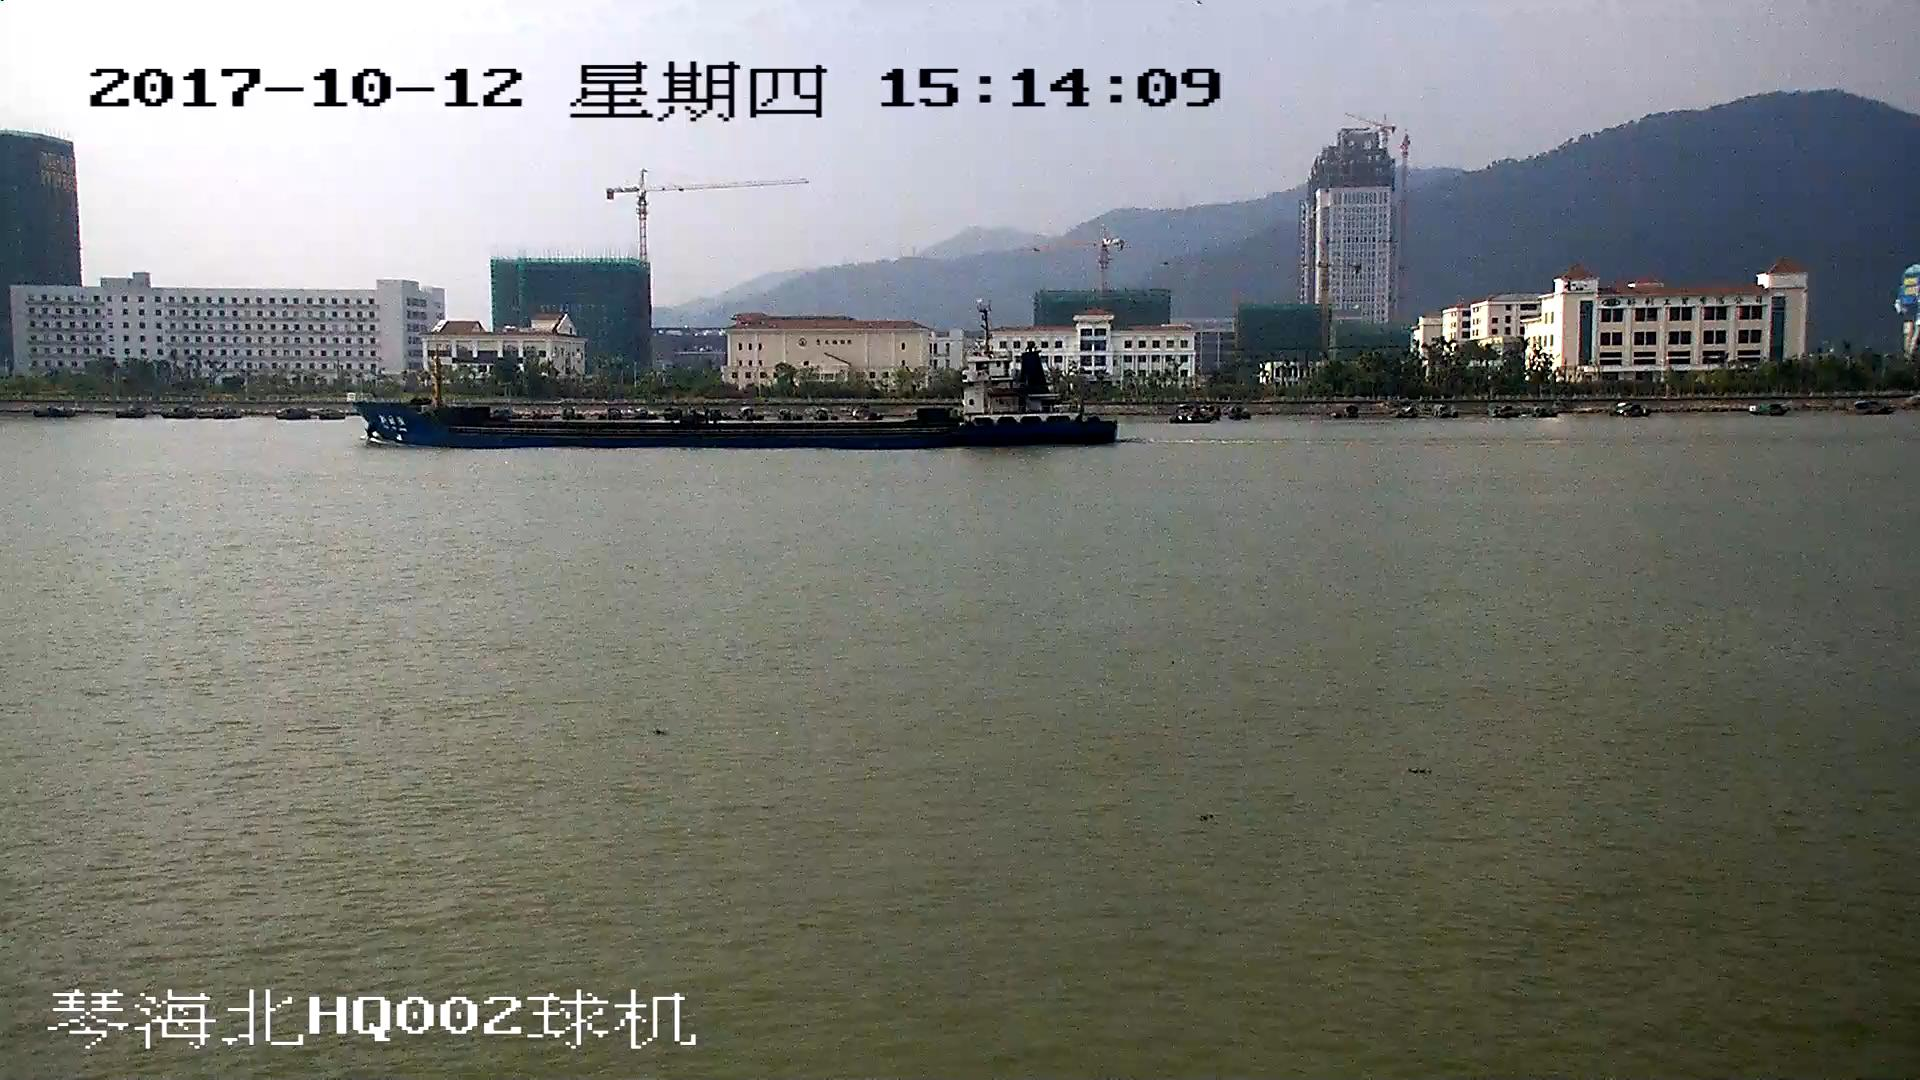general cargo ship: (349, 318, 1116, 450)
